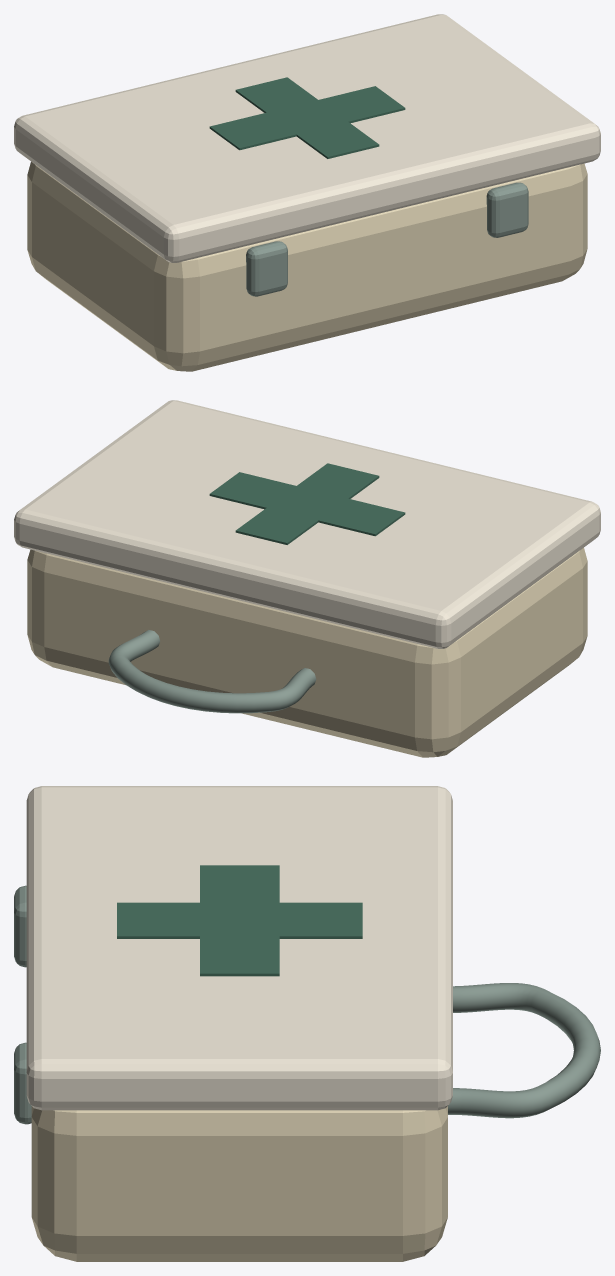
File: medicine_box.glb
The picture shows the model from 3 angles, top to bottom: view 1: azimuth 30°, elevation 25°; view 2: azimuth 150°, elevation 25°; view 3: azimuth 270°, elevation 25°; orthographic projection. The views are drawn at different scales.
Parts seen in each view (by area): view 1: medicine_box; view 2: medicine_box; view 3: medicine_box.
Part boxes in pixels (x1,y1,x2,y2): medicine_box: [14, 14, 600, 371]; medicine_box: [14, 400, 600, 757]; medicine_box: [14, 786, 600, 1261].
Size of the model in its own units: 0.26 by 0.0927 by 0.227.
